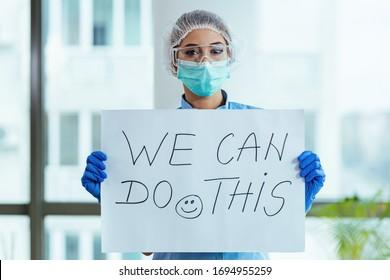gloves: (298, 151, 325, 215), (82, 151, 107, 200)
